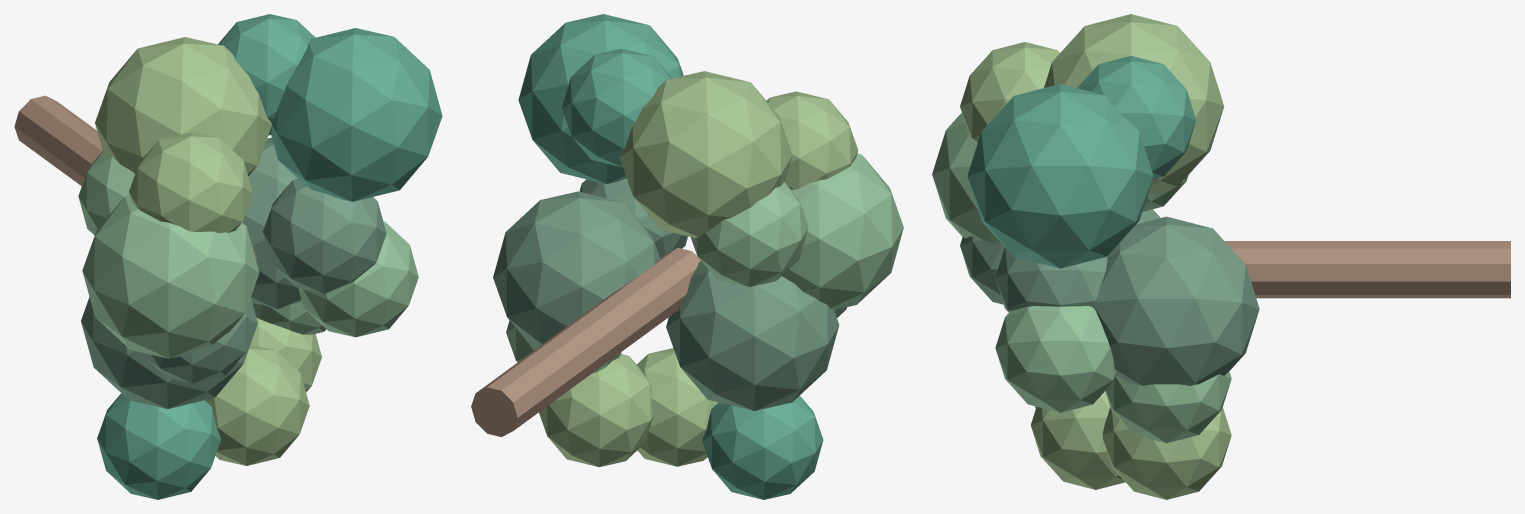
The model's file is rain_tree.glb.
The picture shows the model from 3 angles, left to right: view 1: azimuth 30°, elevation 25°; view 2: azimuth 150°, elevation 25°; view 3: azimuth 270°, elevation 25°; orthographic projection. The views are drawn at different scales.
Parts seen in each view (by area): view 1: leaf3, leaf2, foliage, green, wood; view 2: leaf2, green, leaf3, foliage, wood; view 3: leaf3, green, leaf2, foliage, wood.
Part boxes in pixels (left/top/right/bottom): leaf3: left=97, top=14, right=442, bottom=499; leaf2: left=95, top=37, right=321, bottom=465; foliage: left=78, top=150, right=418, bottom=358; green: left=81, top=137, right=386, bottom=408; wood: left=14, top=95, right=256, bottom=260; leaf2: left=539, top=71, right=858, bottom=467; green: left=493, top=178, right=846, bottom=410; leaf3: left=518, top=14, right=823, bottom=499; foliage: left=506, top=153, right=903, bottom=373; wood: left=471, top=248, right=700, bottom=436; leaf3: left=967, top=55, right=1196, bottom=408; green: left=960, top=209, right=1259, bottom=385; leaf2: left=960, top=14, right=1231, bottom=499; foliage: left=932, top=113, right=1231, bottom=443; wood: left=1225, top=241, right=1510, bottom=298.
Bounding box in the file's own units: 4.61 × 5.4 × 6.22.
